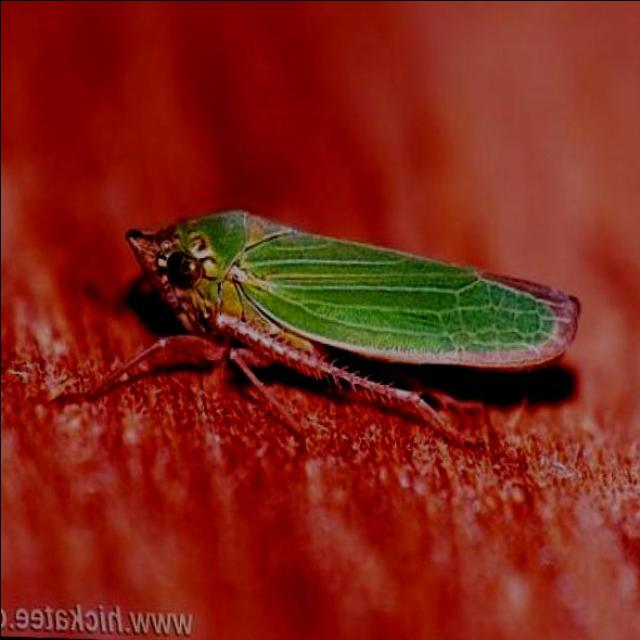green leaf hopper: (126, 209, 578, 369)
